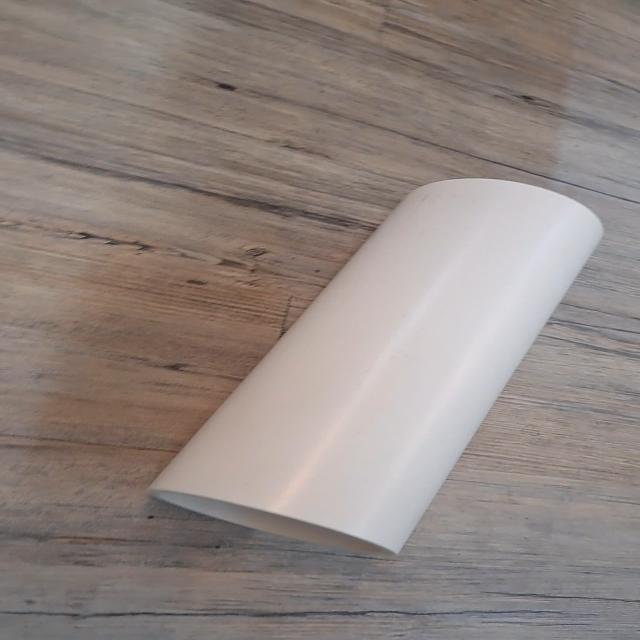CORAL: (142, 166, 610, 564)
